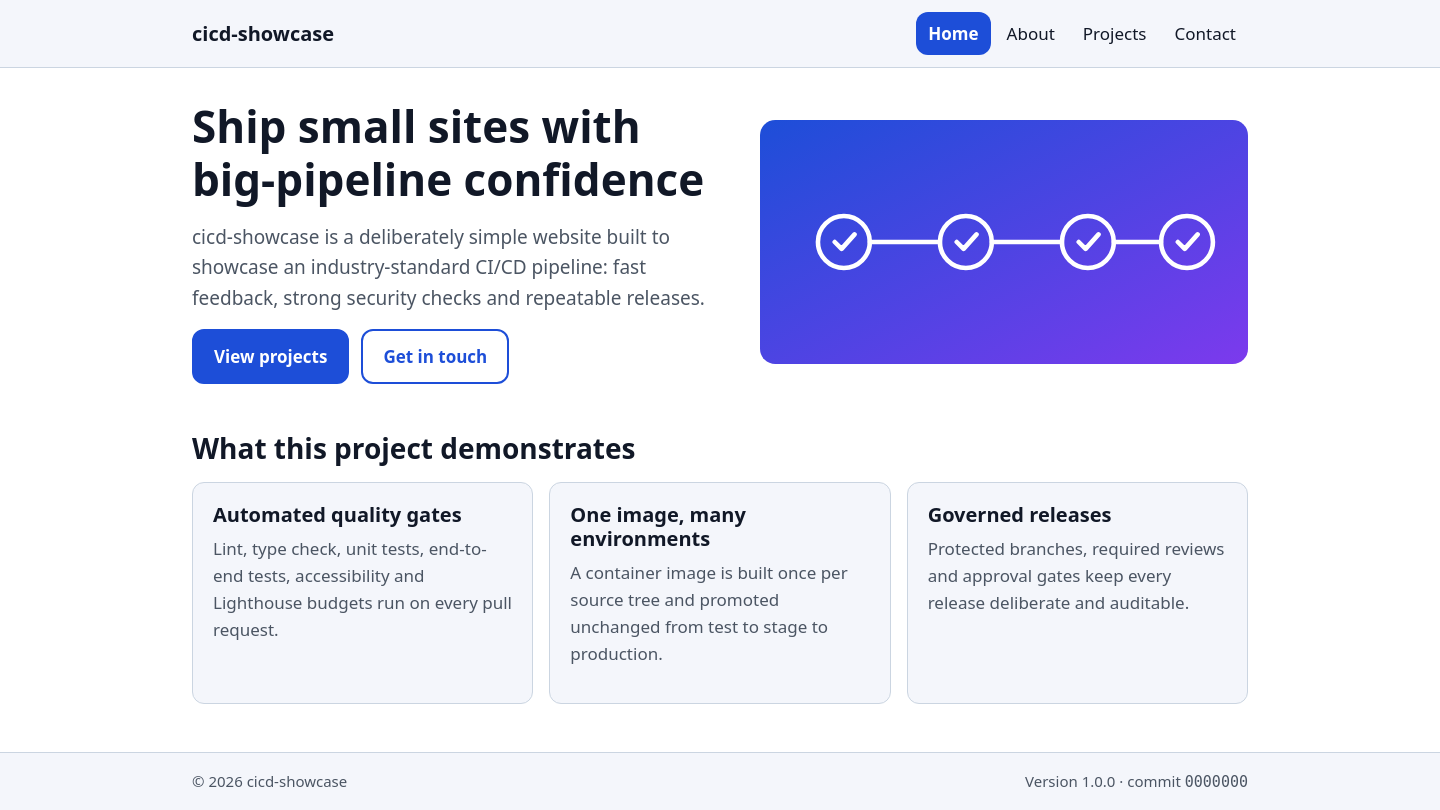
Test: routing › navigates between pages and moves focus to the content
The width and height of the screenshot is (1440, 810).
Click the link "About".
click(1031, 34)  # box left=1007, top=22, right=1055, bottom=45
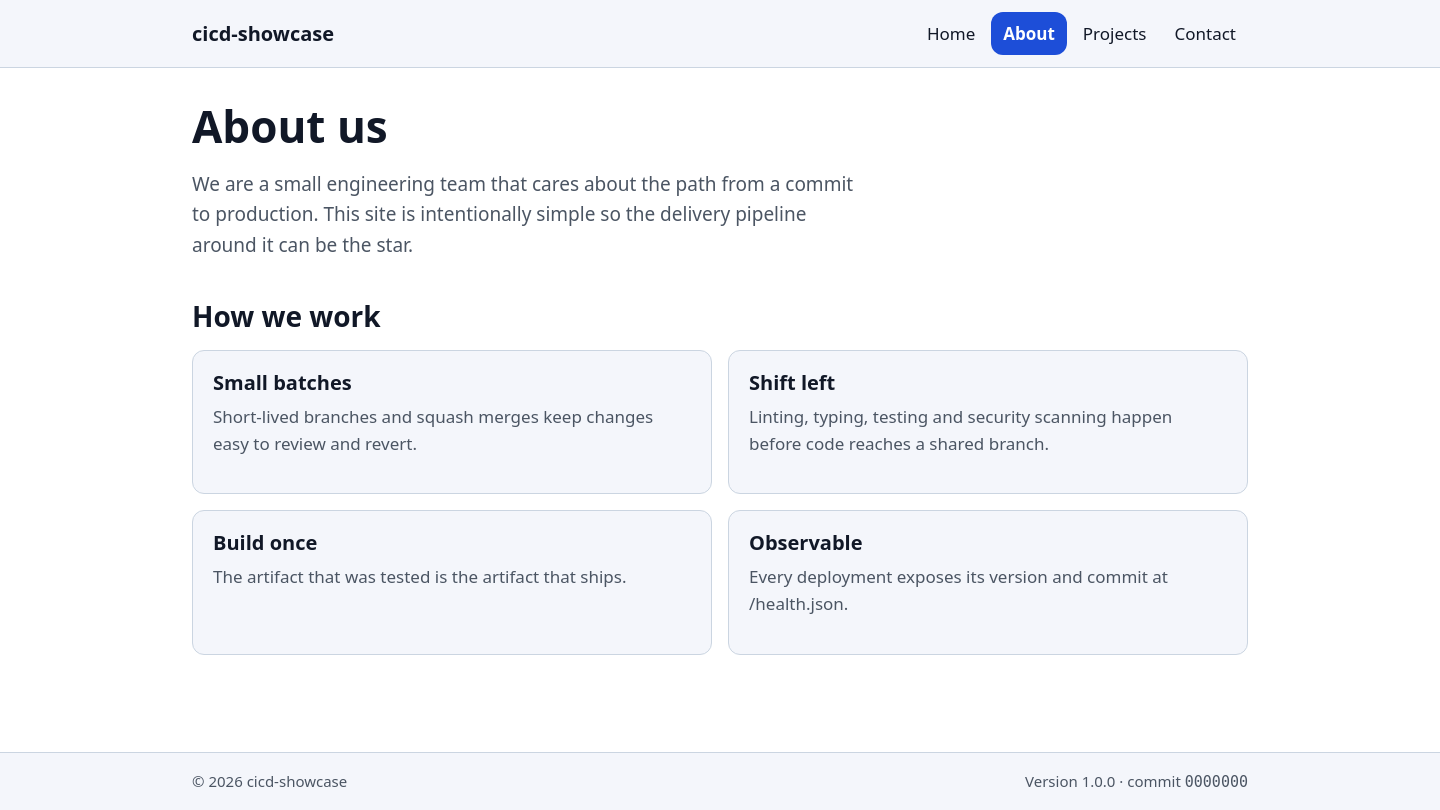
Expected: the heading "About us" is shown, left=192, top=96, right=388, bottom=156
